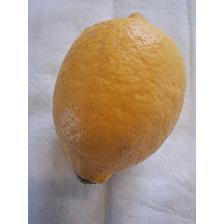Zitrone: (50, 10, 188, 186)
